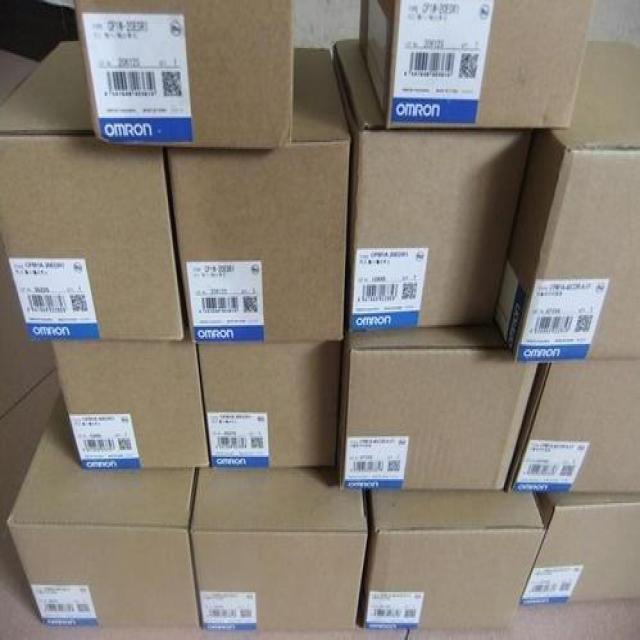box: (336, 43, 536, 341), (0, 44, 188, 343), (169, 49, 348, 339), (11, 385, 201, 639), (496, 33, 640, 366), (72, 0, 292, 153), (338, 320, 538, 488), (361, 0, 599, 134), (188, 466, 367, 640), (361, 486, 542, 630), (51, 331, 215, 469), (195, 341, 341, 468), (509, 356, 639, 489), (522, 491, 640, 609)
